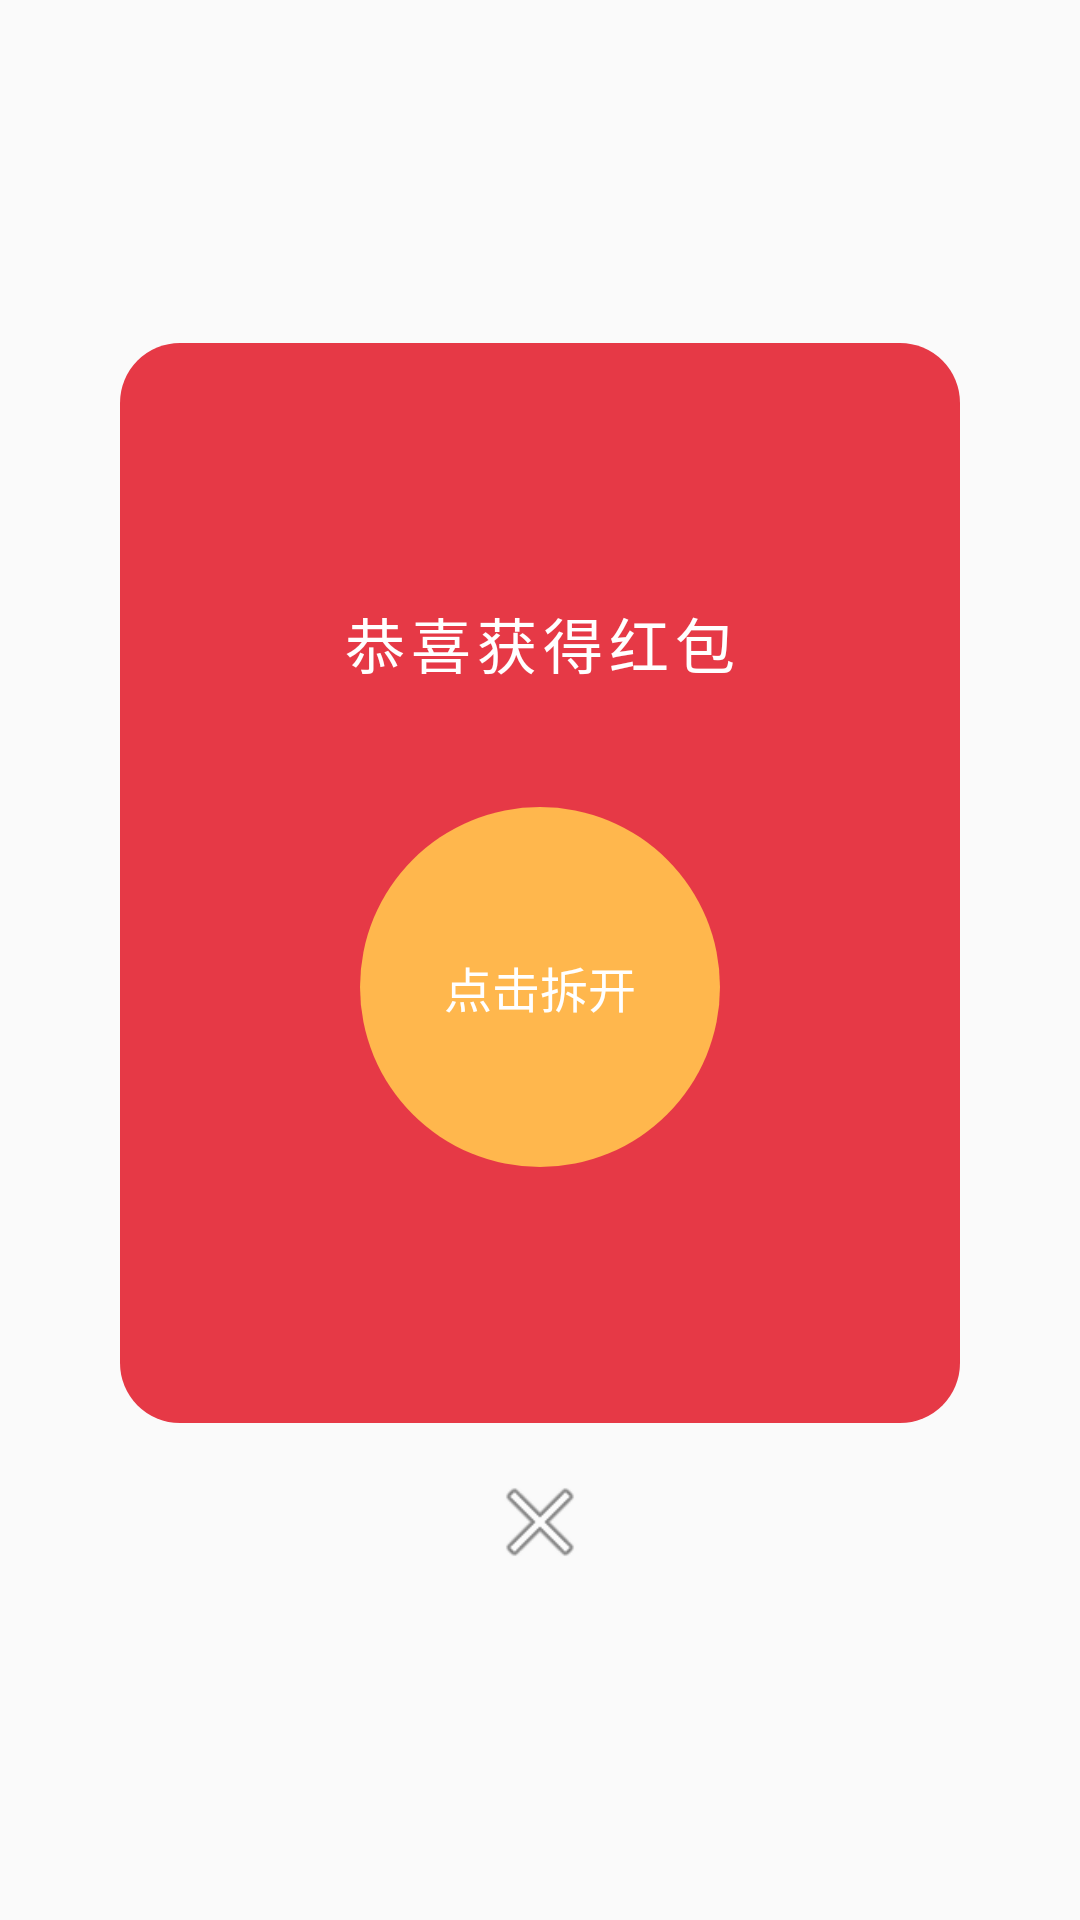

Screen size 1080x1920. Icon name, then its box in pixels as bbox=(x1, y1, x2, y2):
close clear cancel: bbox=(506, 1488, 574, 1556)
